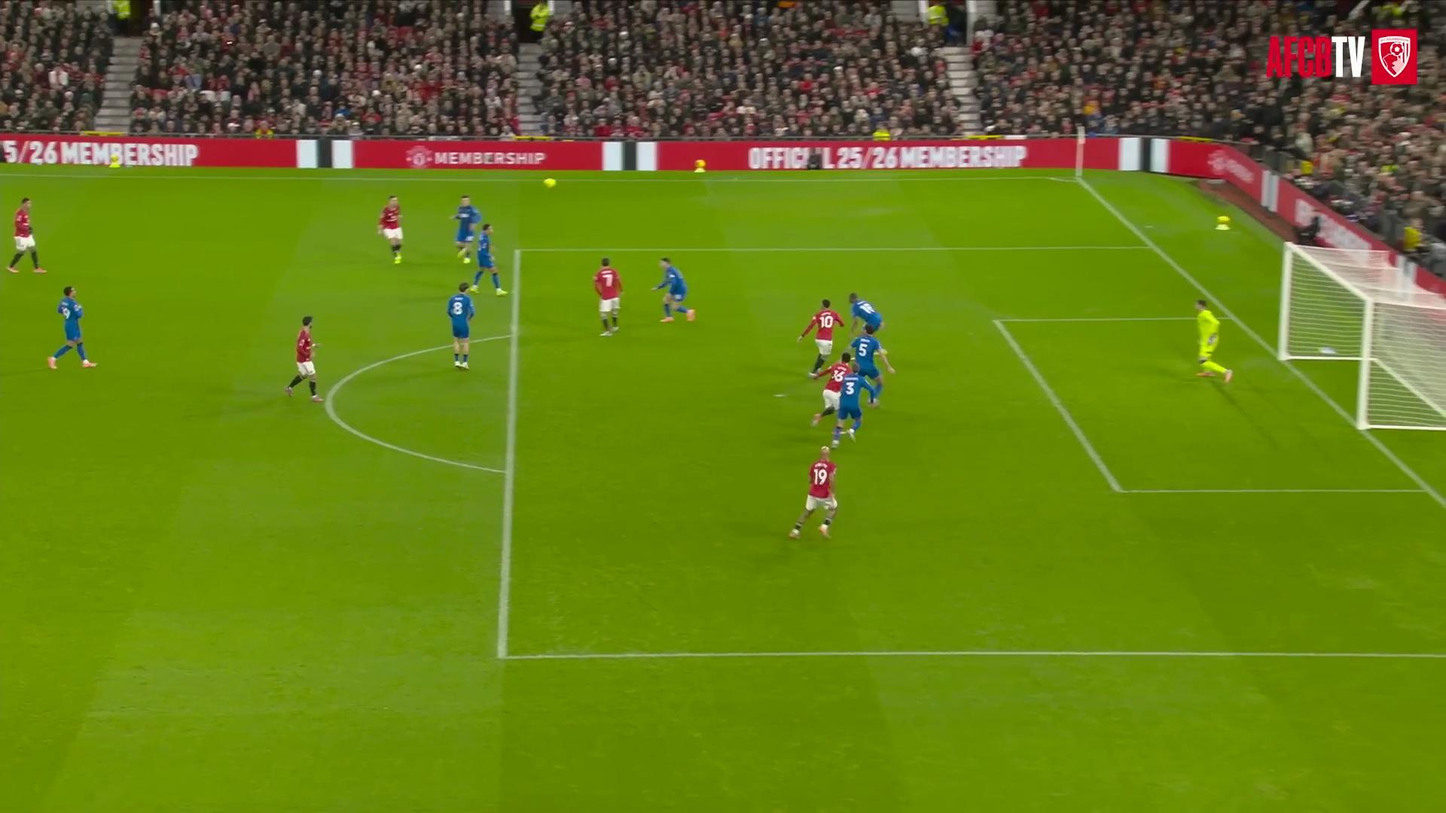football: (540, 173, 563, 196)
player: (789, 446, 837, 538), (47, 286, 96, 368), (832, 362, 878, 447), (798, 299, 841, 376), (285, 316, 322, 402), (850, 324, 895, 393), (1195, 299, 1232, 382), (812, 352, 852, 425), (8, 197, 45, 273), (469, 224, 506, 296), (654, 257, 695, 321), (447, 282, 474, 369), (593, 257, 622, 336), (452, 195, 481, 263), (378, 195, 401, 263), (848, 293, 883, 333)
